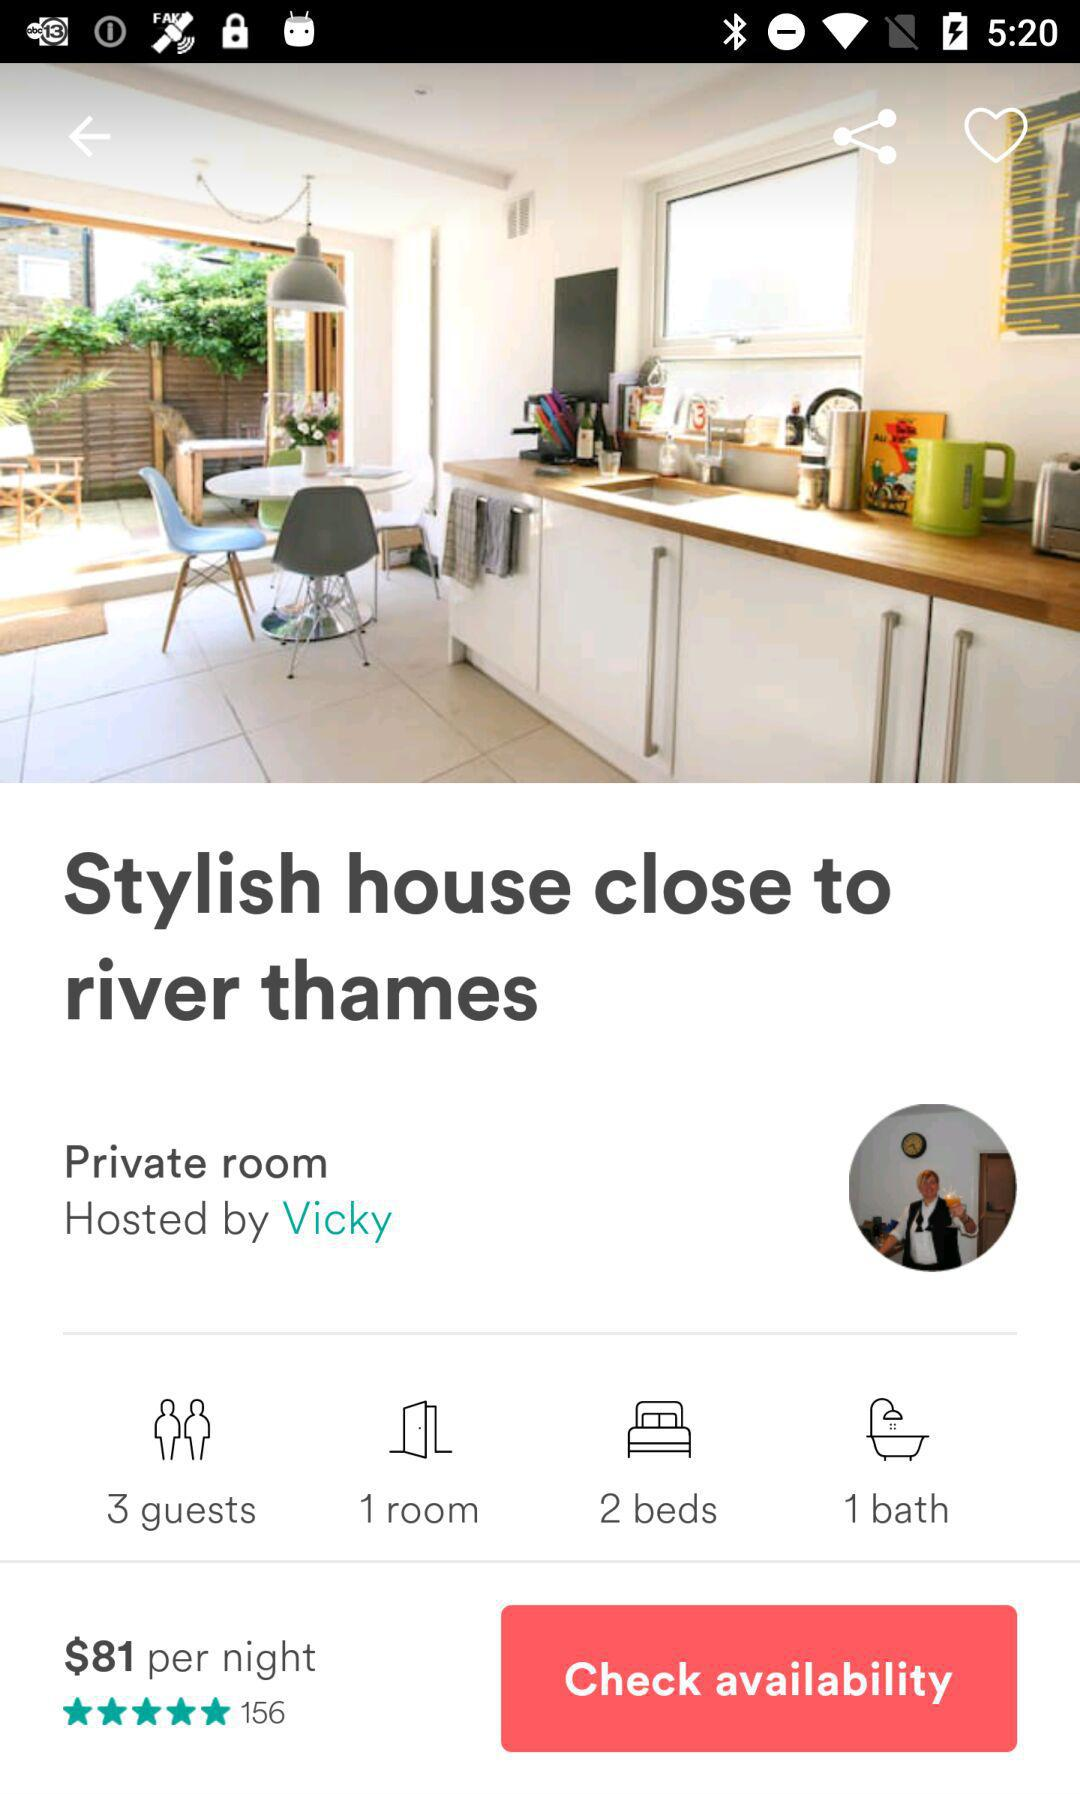Icon: (61, 1695, 233, 1727), (831, 108, 898, 167), (962, 108, 1029, 167), (67, 115, 113, 160)
Image: (1, 64, 1080, 784), (848, 1102, 1019, 1274), (865, 1397, 931, 1463), (388, 1399, 454, 1462), (626, 1399, 693, 1460), (152, 1397, 213, 1463)
Text: (64, 850, 892, 1023), (67, 1199, 395, 1246), (64, 1634, 318, 1683), (67, 1143, 328, 1181), (108, 1492, 258, 1533), (600, 1492, 717, 1526), (359, 1492, 479, 1525), (843, 1492, 949, 1526), (240, 1699, 287, 1726)
TextButton: (500, 1604, 1019, 1753)
UpperTaskBar: (1, 1, 1080, 64)
